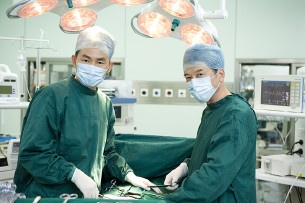Mask: (74, 52, 109, 87)
